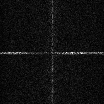wifi: (1, 51, 104, 54)
